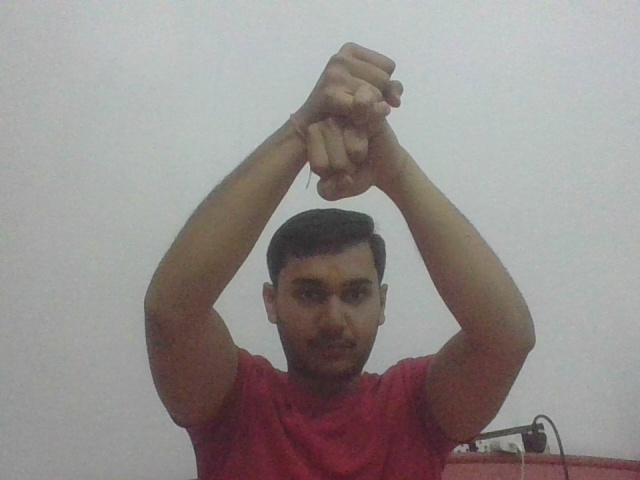S: (297, 36, 407, 204)
